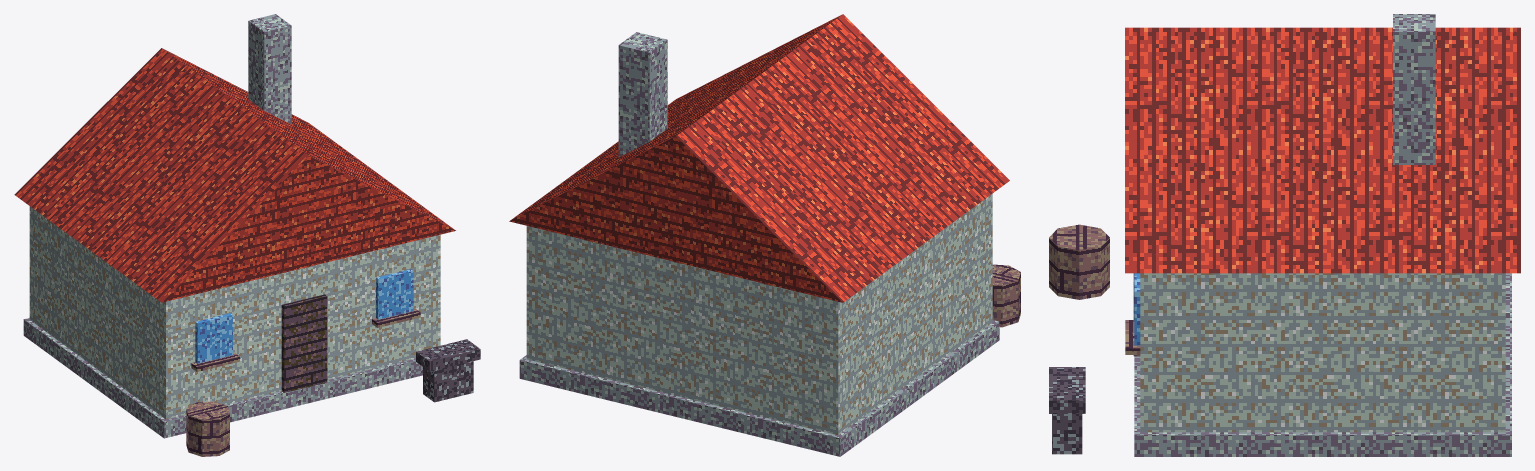
Rendered from forja_brom.glb.
The picture shows the model from 3 angles, left to right: view 1: azimuth 30°, elevation 25°; view 2: azimuth 150°, elevation 25°; view 3: azimuth 270°, elevation 25°; orthographic projection. The views are drawn at different scales.
Visible parts, largest first — view 1: forja_brom; view 2: forja_brom; view 3: forja_brom.
Part boxes in pixels (box(x1,y1,x2,y2)): forja_brom: box(14, 14, 480, 456); forja_brom: box(509, 14, 1020, 456); forja_brom: box(1049, 14, 1520, 456).
Bounding box in the file's own units: 7.5 × 7 × 7.75.
7 materials, 7 textured.
